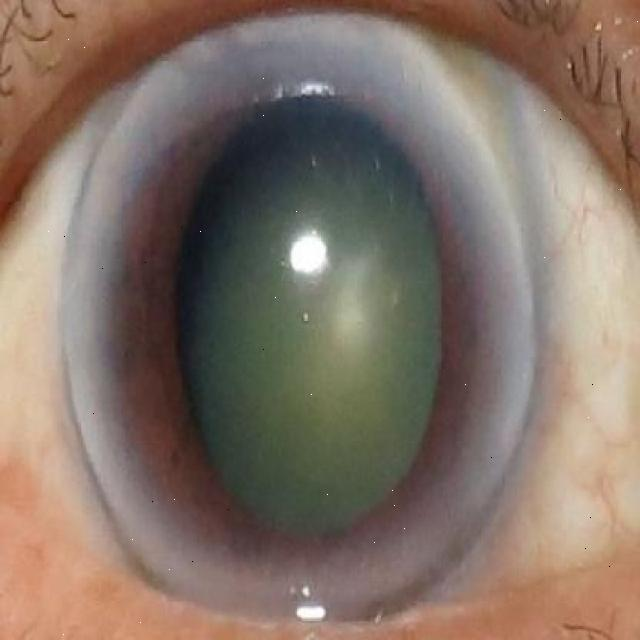Cataract: (66, 18, 537, 628)
